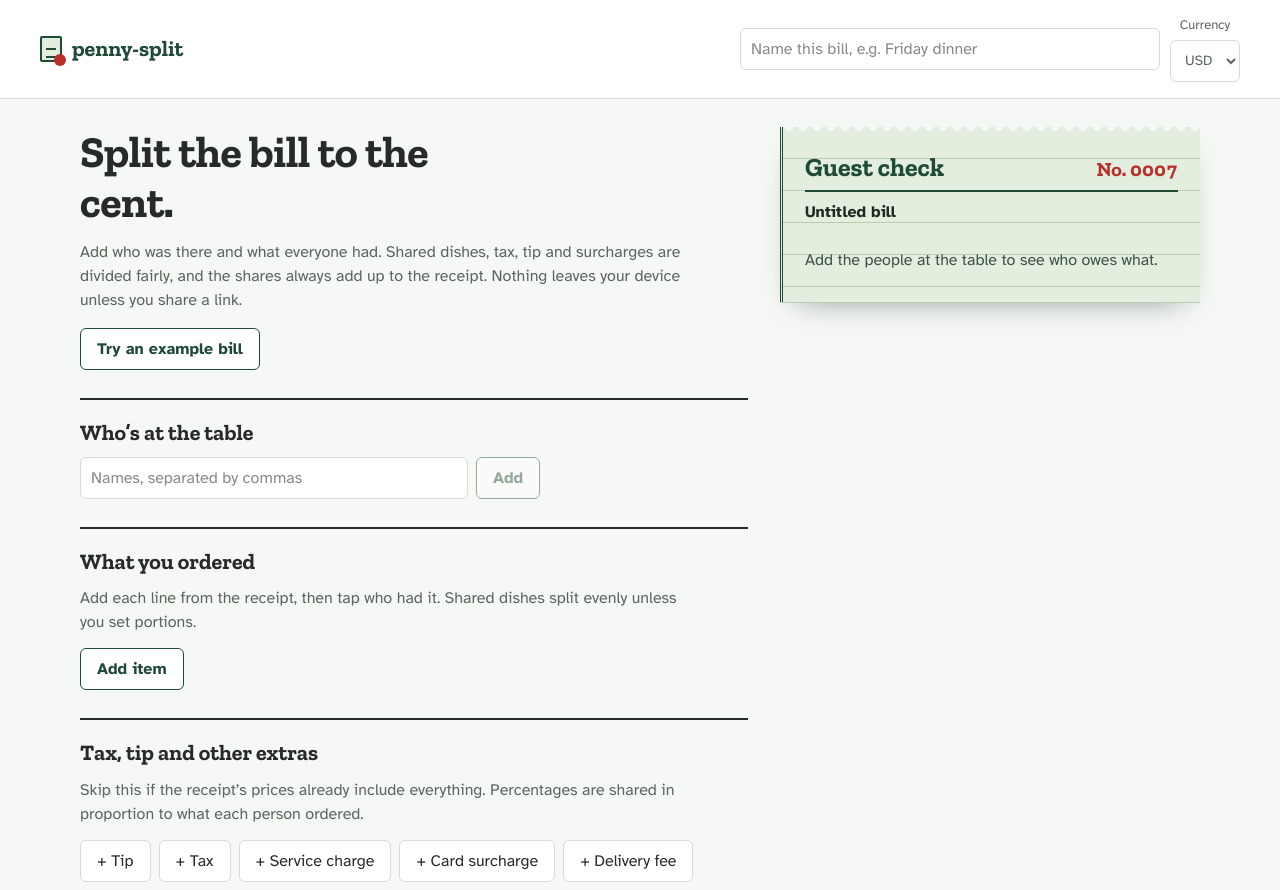
Test case: App › undoes removing a person
The width and height of the screenshot is (1280, 890).
Click the button "Try an example bill": (170, 349) [80, 328, 260, 370]
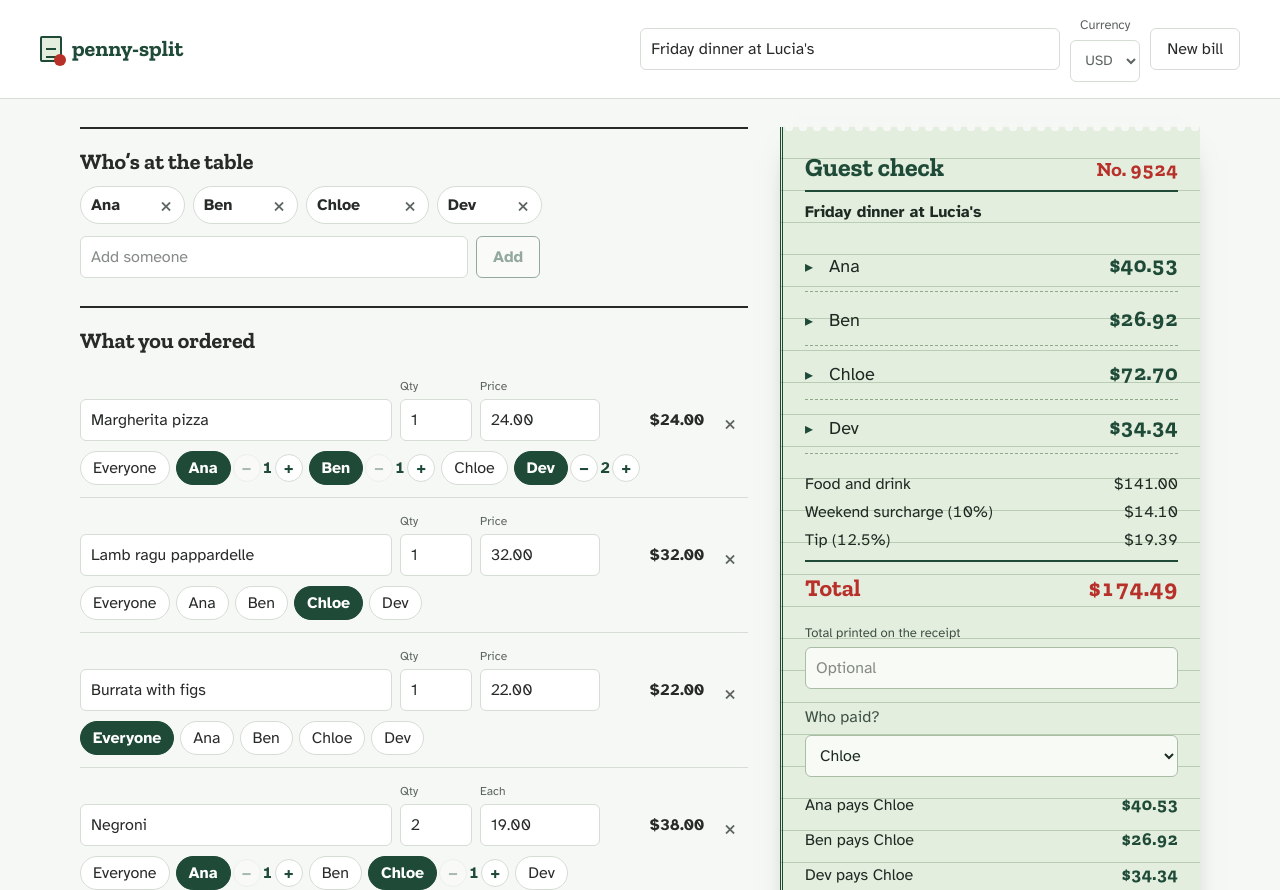
Click the button named "Remove Ben": (279, 205) [261, 187, 297, 223]
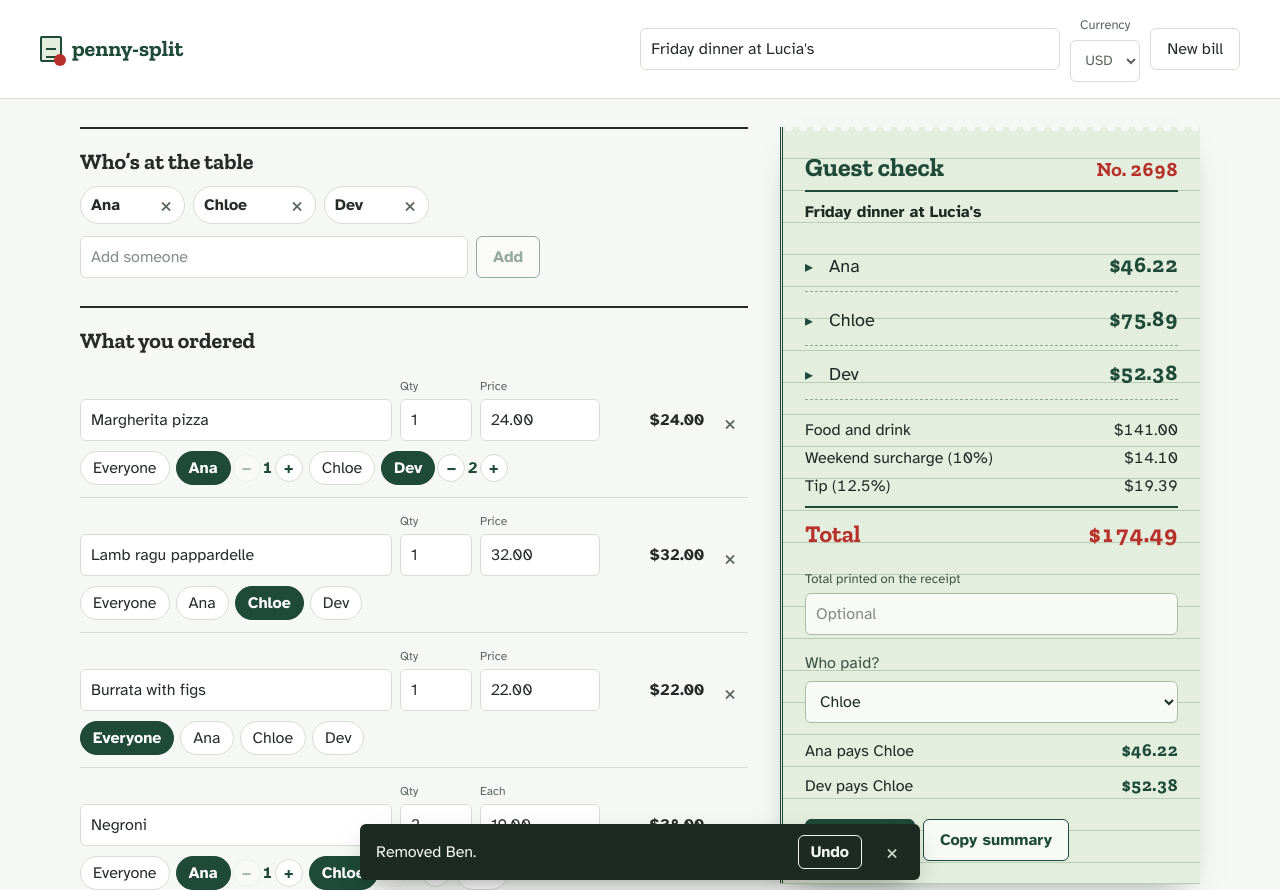
Click the button "Undo": (830, 852) [798, 835, 862, 869]
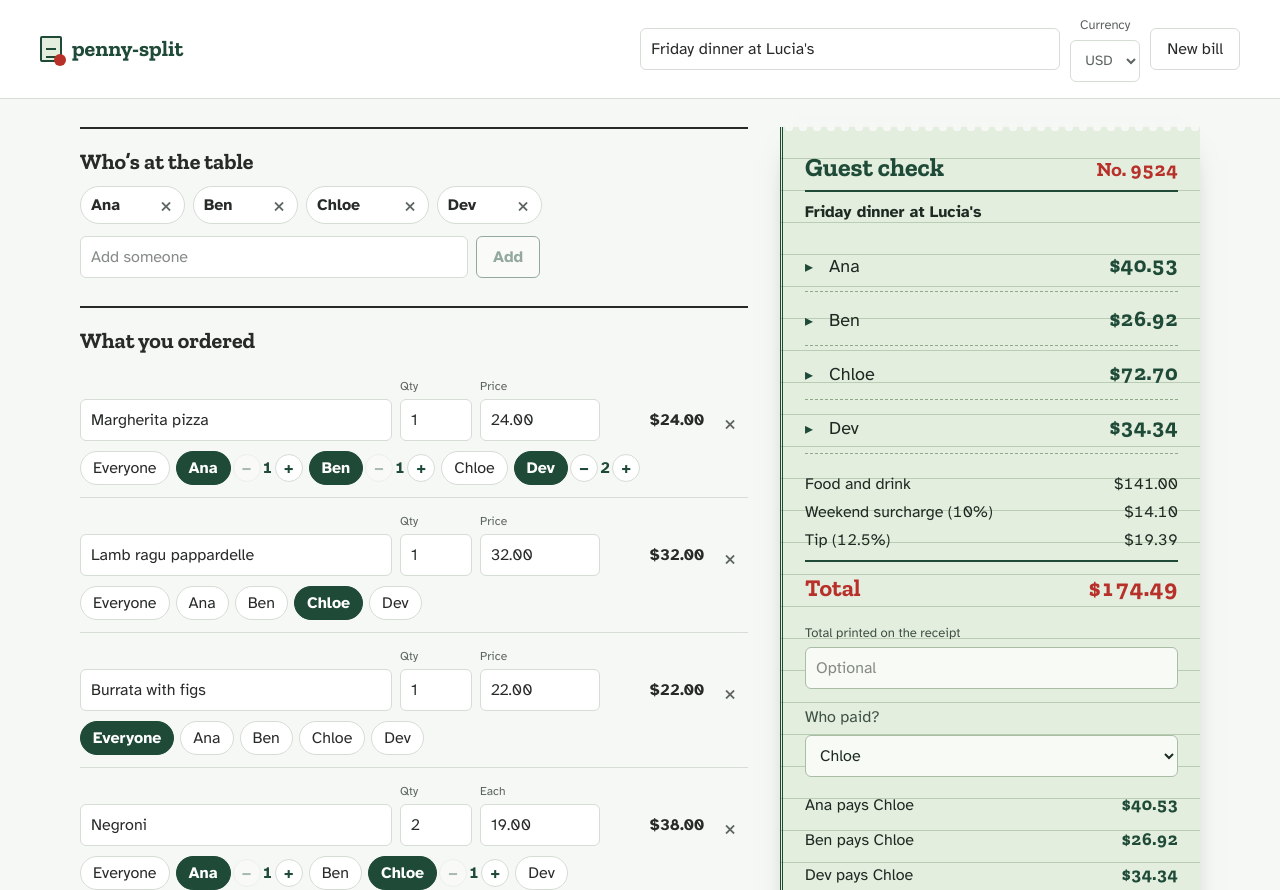
Expected: the field named "Name for Ben" is shown, [198, 187, 261, 223]
